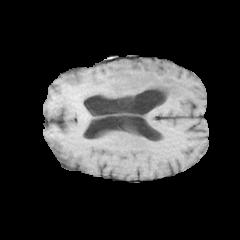glioma: (48, 66, 188, 119)
